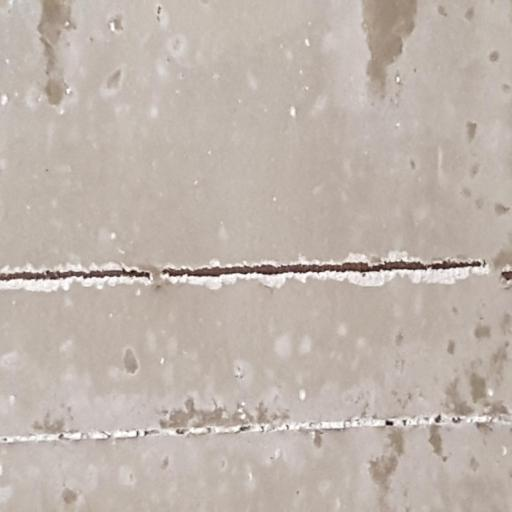exposed_rebar: (161, 260, 486, 278), (0, 268, 151, 282)
spalling: (0, 255, 491, 290), (501, 270, 512, 281)
